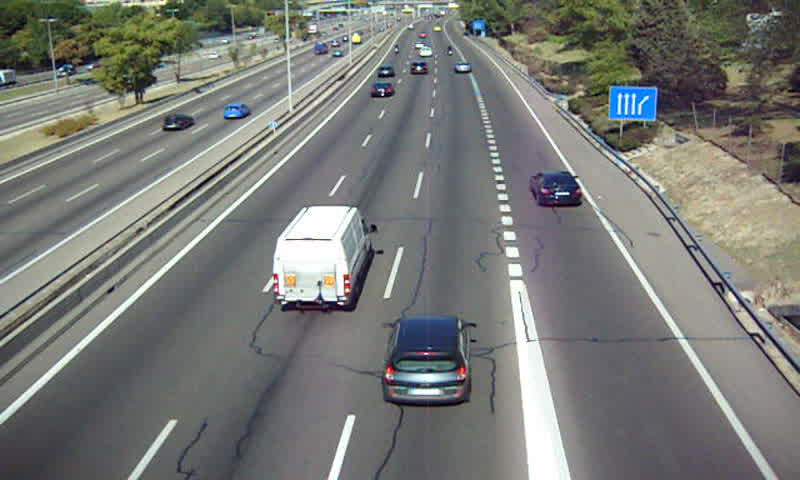car: (383, 317, 471, 406), (529, 172, 581, 207), (370, 82, 393, 100), (375, 64, 397, 79), (408, 61, 428, 76), (452, 60, 472, 73)
van: (275, 206, 377, 312)
